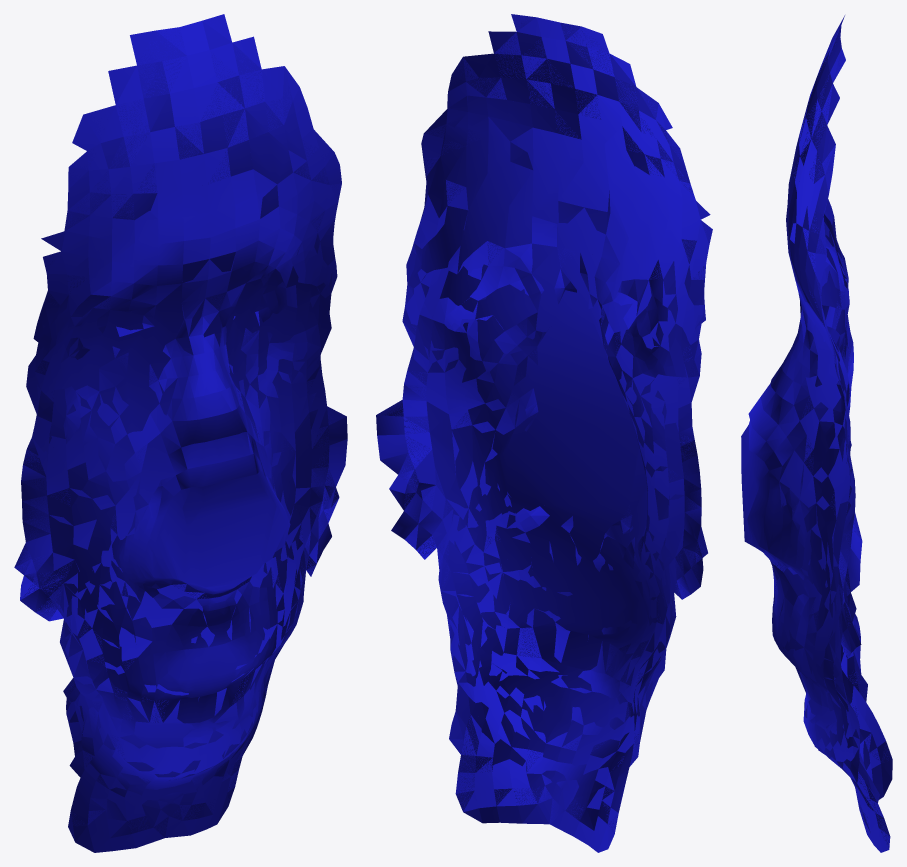
File: deformed_mesh_reverse.obj
The picture shows the model from 3 angles, left to right: view 1: azimuth 30°, elevation 25°; view 2: azimuth 150°, elevation 25°; view 3: azimuth 270°, elevation 25°; orthographic projection. The views are drawn at different scales.
Size of the model in its own units: 0.0317 by 0.0743 by 0.0129.
